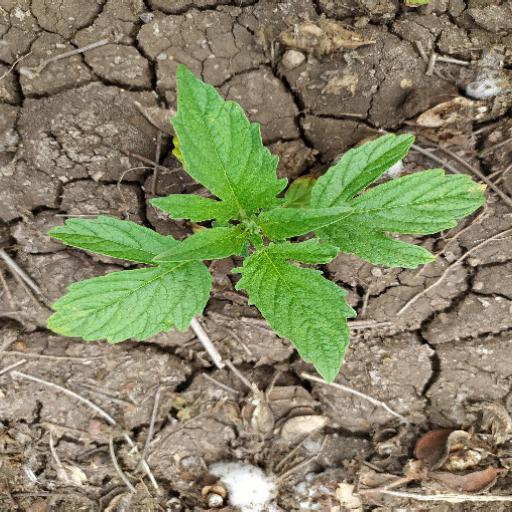crop: (52, 69, 490, 379)
